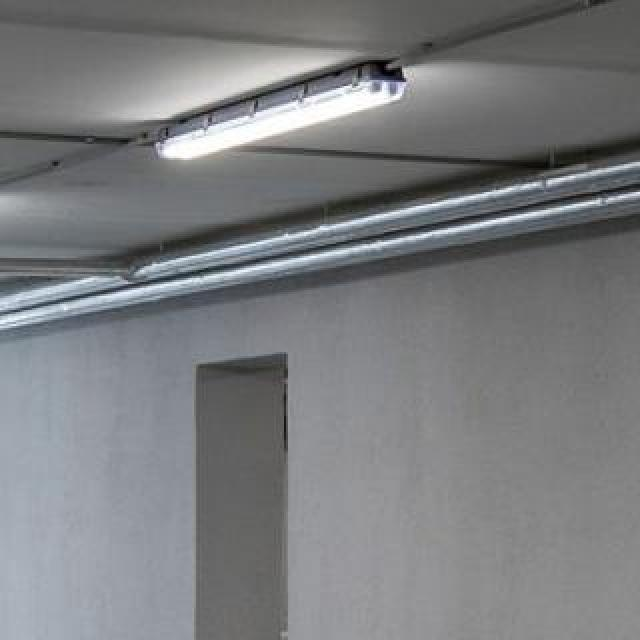fluorescent tube: (118, 40, 444, 162), (0, 180, 2, 270)
